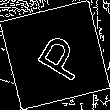P_NW: (24, 26, 86, 84)
